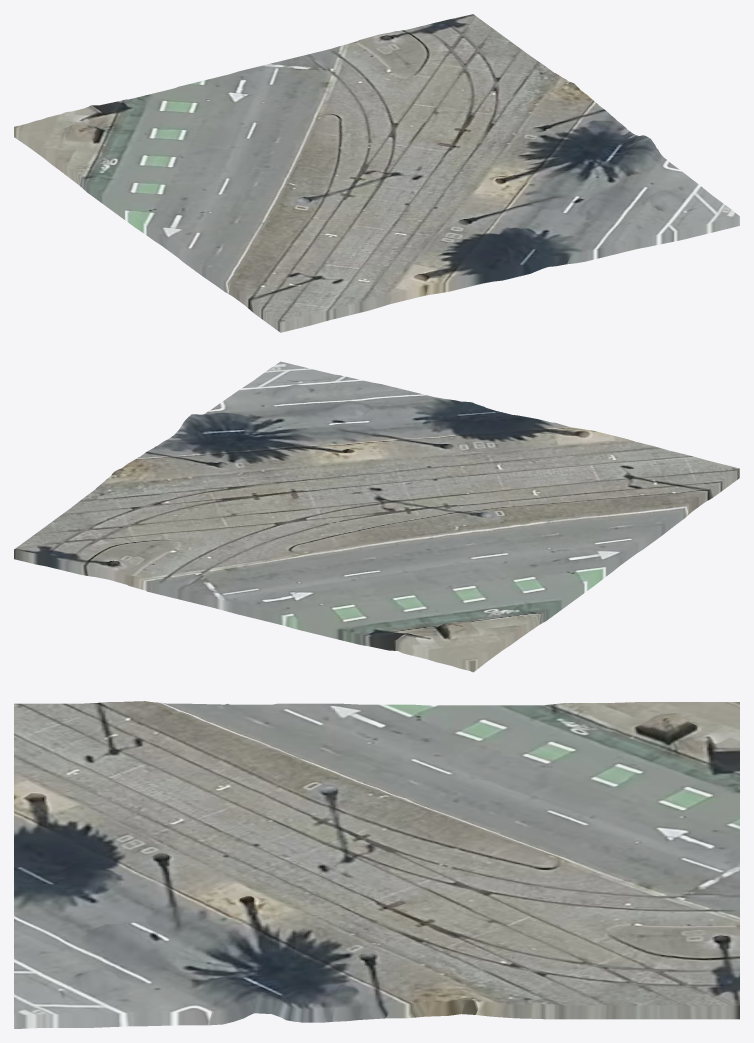
The model's file is z20-167792-405225-h0-yup-uvflip-v3-world.glb.
3 views of the same model, one above another, from view 1: azimuth 30°, elevation 25°; view 2: azimuth 150°, elevation 25°; view 3: azimuth 270°, elevation 25° (orthographic). The views are drawn at different scales.
Size of the model in its own units: 30.16 by 1.52 by 30.32.
Materials: 1 (1 with a texture image).
